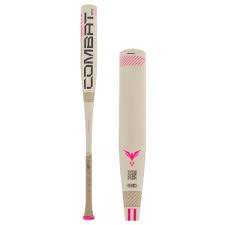baseball bat: (116, 46, 148, 223), (79, 4, 98, 222)
